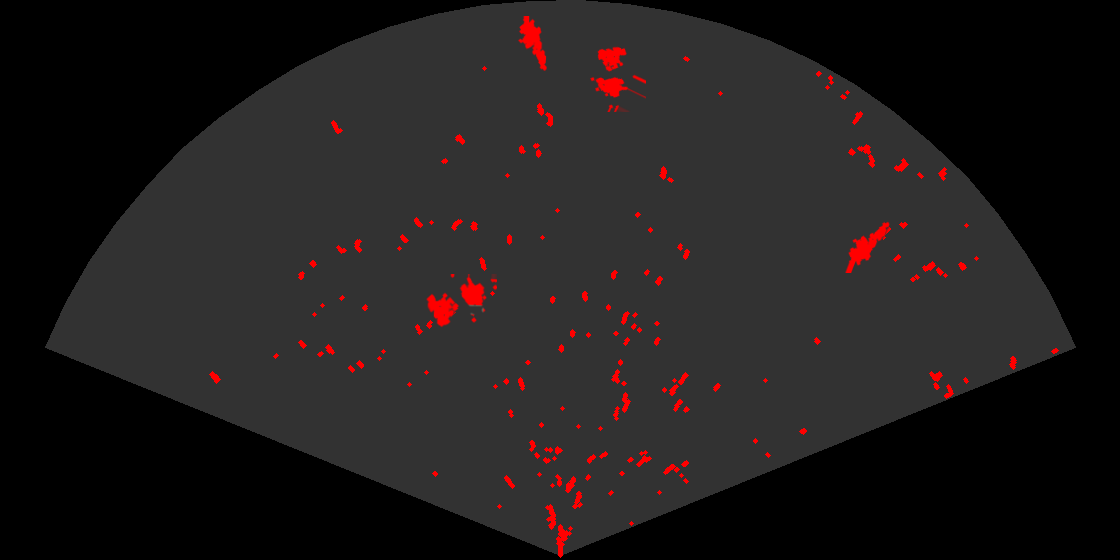cage: (425, 274, 497, 329), (589, 45, 646, 112)
frogman: (844, 220, 891, 273), (516, 16, 548, 71)
